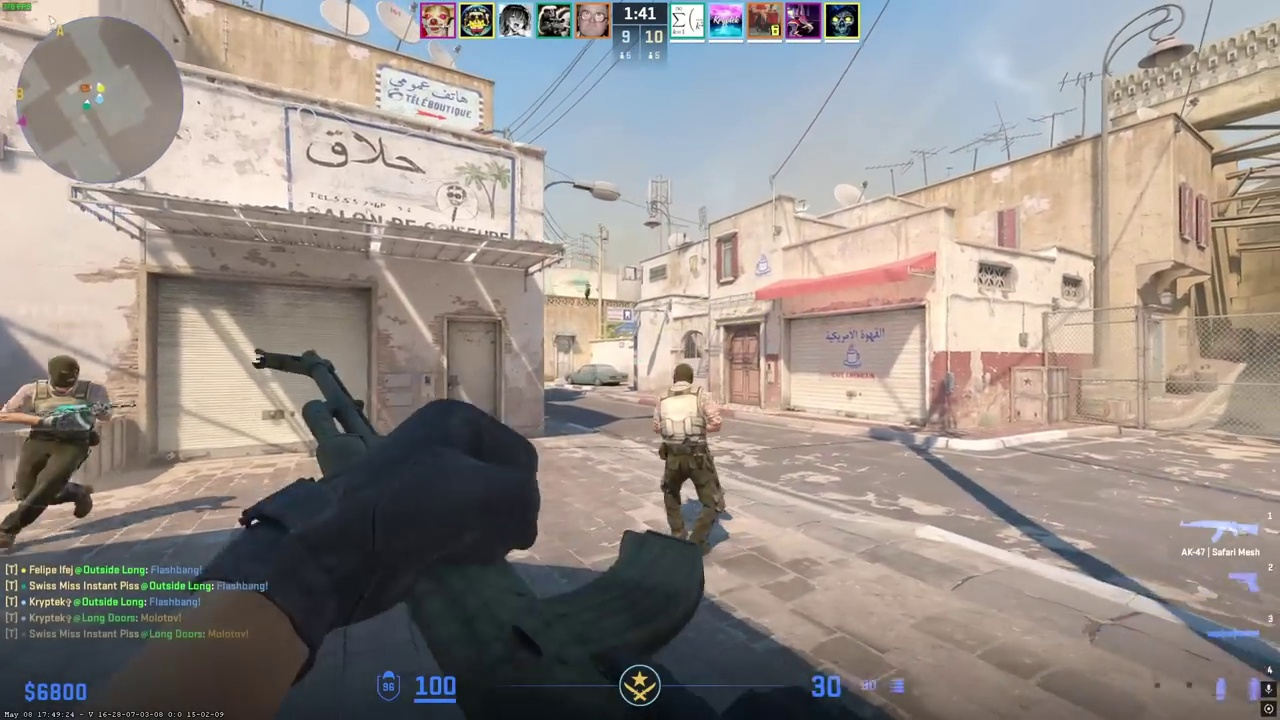Terrorist: (1, 355, 108, 549), (656, 364, 725, 542)
